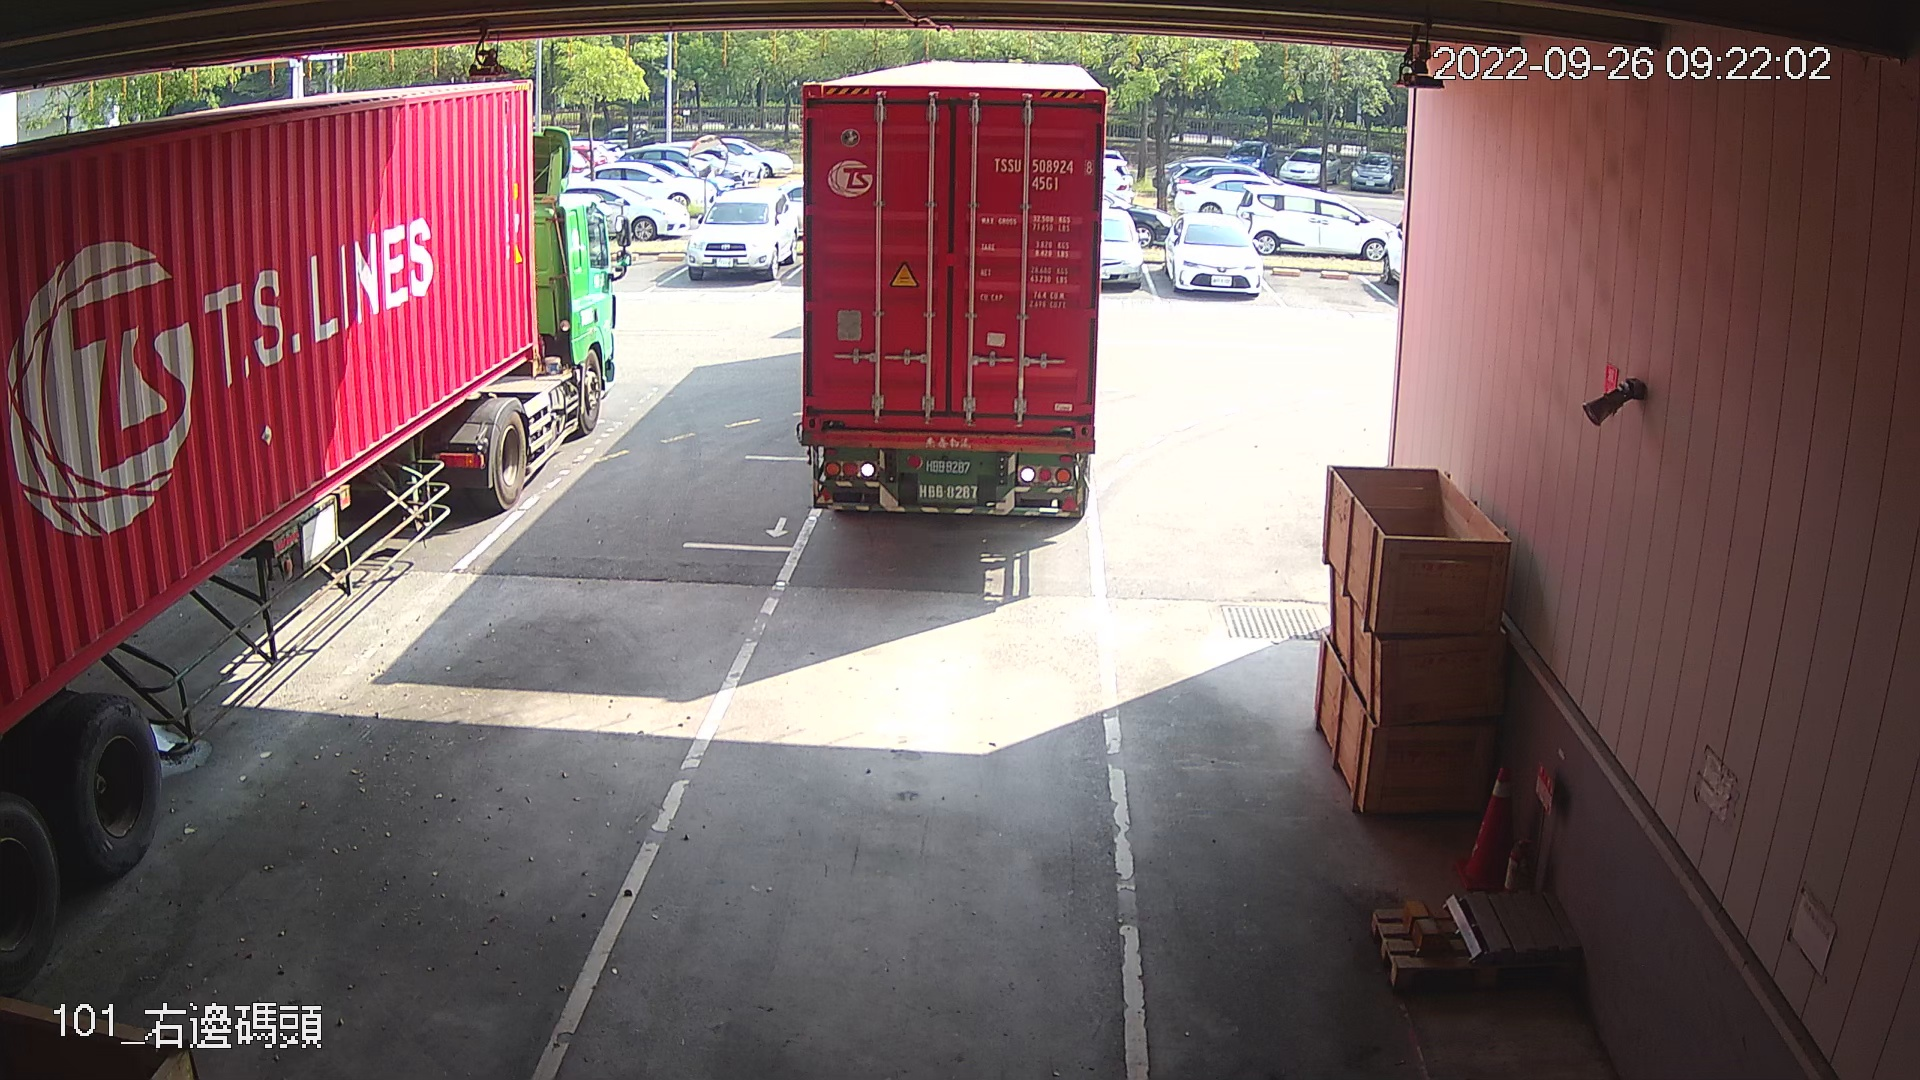container: (985, 152, 1098, 196)
